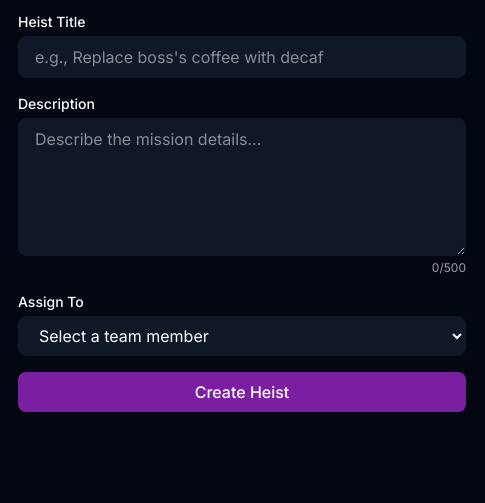
Scenario: CreateHeistForm › shows validation error for description too short
Type "short" into the text box labelled "Description" at (242, 187), box [18, 118, 466, 256]
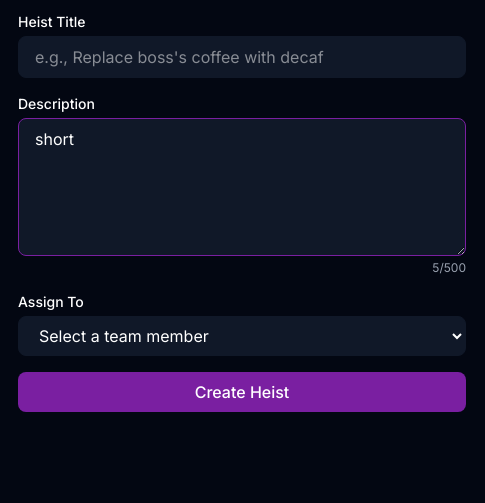
Click the button "Create Heist" at (242, 392), box [18, 372, 466, 412]
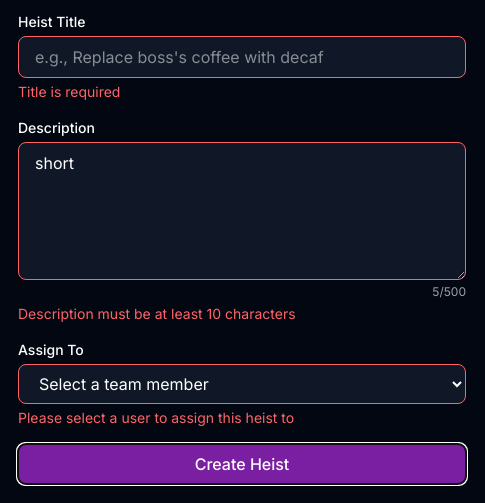
expect the text "Description must be at least 10 characters" is shown: met, box [18, 305, 296, 322]
